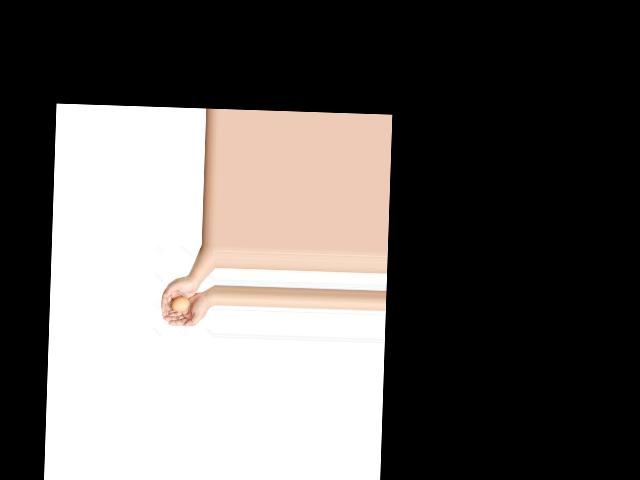egg: (172, 296, 189, 311)
